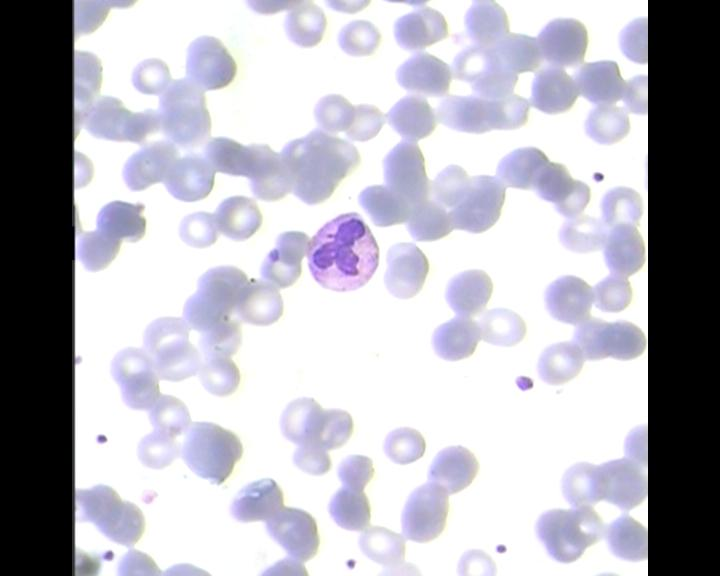neut: (304, 213, 379, 294)
